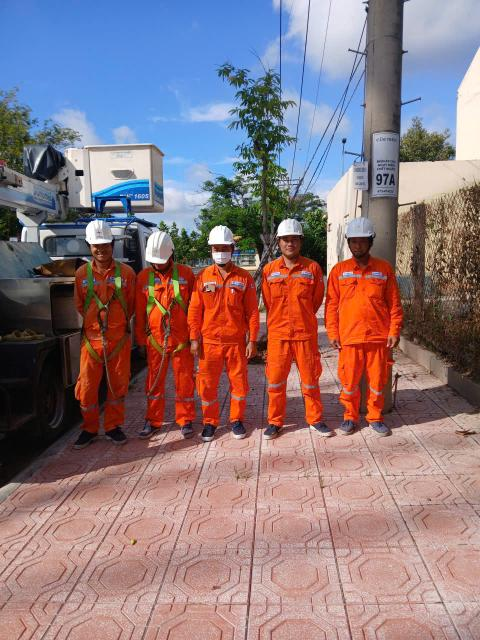harness: (77, 258, 129, 362), (138, 277, 189, 359)
helmet: (142, 224, 178, 272), (268, 210, 315, 244), (342, 214, 377, 249), (82, 219, 118, 251), (204, 222, 241, 251)
shoes: (195, 406, 231, 452), (223, 403, 255, 452), (365, 406, 406, 444), (64, 412, 101, 453), (130, 411, 172, 447), (301, 412, 341, 448), (172, 404, 200, 452), (262, 407, 291, 453), (103, 413, 132, 452), (338, 410, 365, 445)
